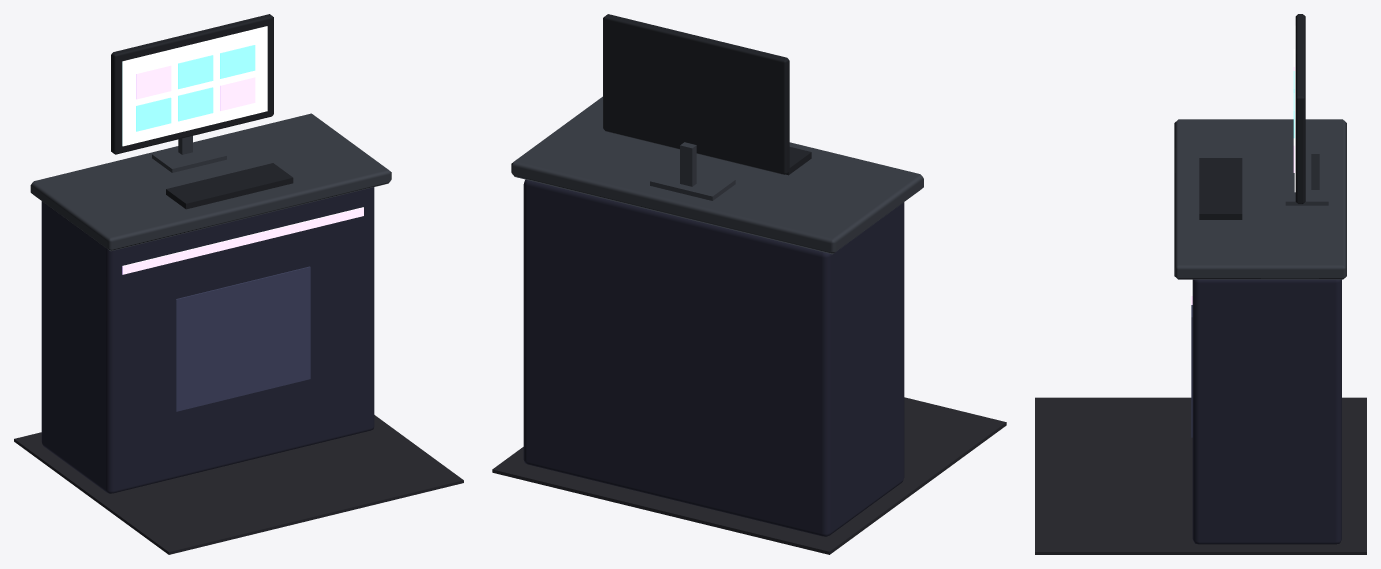
The model's file is station_special_basis.glb.
3 views of the same model, side by side, from view 1: azimuth 30°, elevation 25°; view 2: azimuth 150°, elevation 25°; view 3: azimuth 270°, elevation 25° (orthographic). The views are drawn at different scales.
Parts seen in each view (by area): view 1: station_special_basis; view 2: station_special_basis; view 3: station_special_basis.
Boxes of the visible parts, x1,y1,x2,y2 form: station_special_basis: [14, 14, 463, 554]; station_special_basis: [492, 14, 1006, 554]; station_special_basis: [1035, 14, 1366, 554].
Size of the model in its own units: 1.1 by 1.41 by 1.
